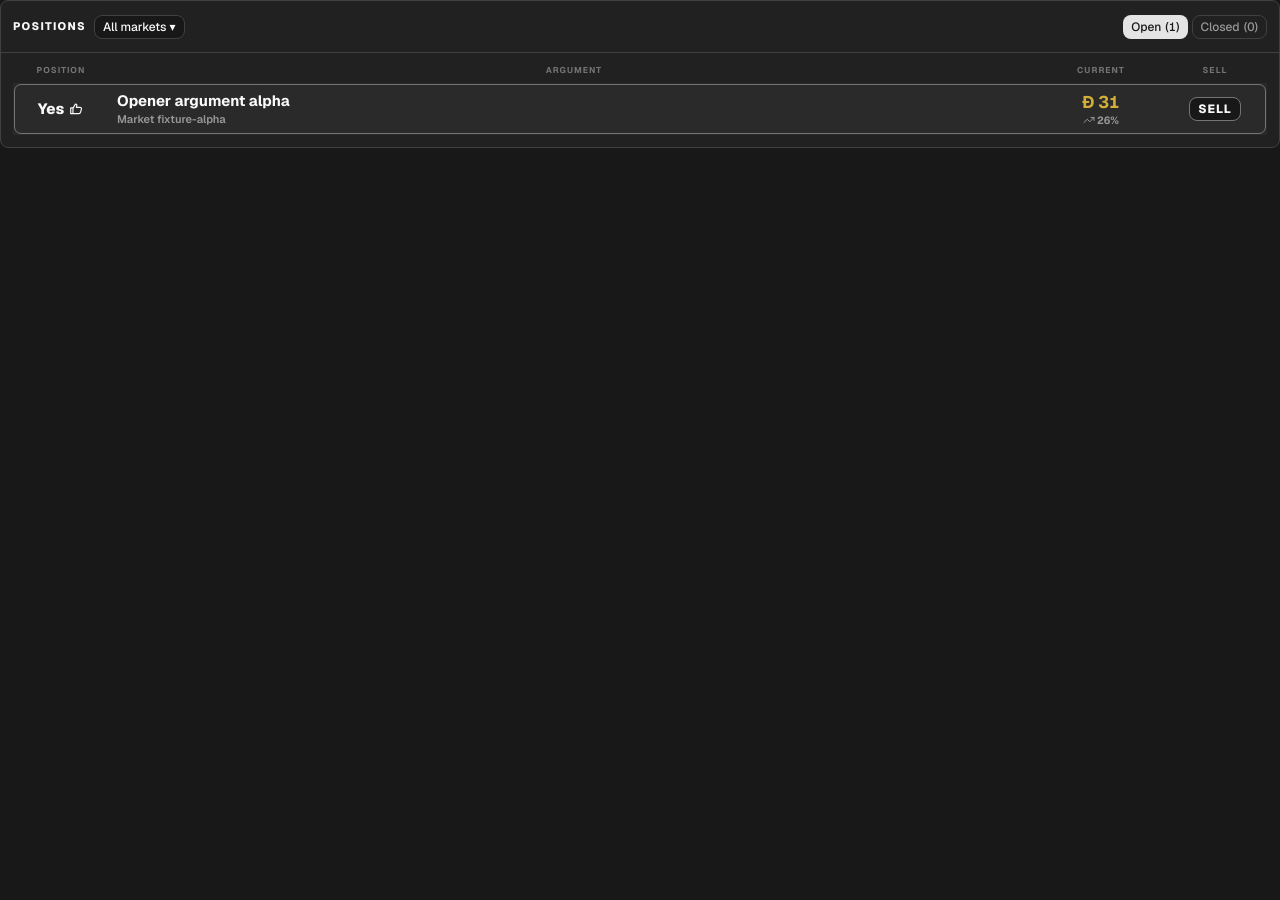
Test: MOBILE-2e — the phone sell, through its host › phone-host::a-pointerdown-INSIDE-the-sheet-does-not-cancel-the-arm
Click the button "Sell" at {"x": 1215, "y": 109}, box [1189, 97, 1241, 121]
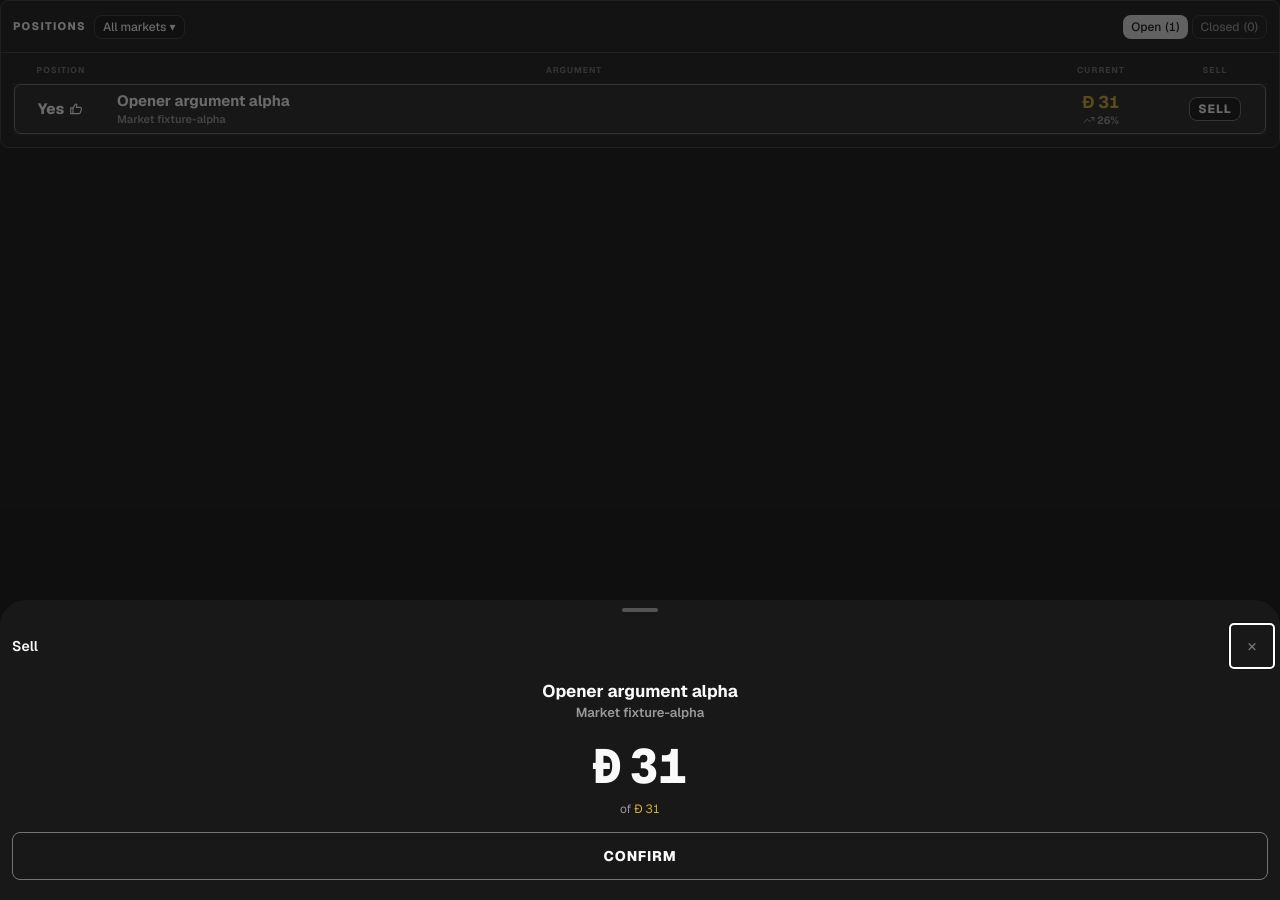
Press the mouse on the button "Confirm" at {"x": 640, "y": 856}, box [12, 832, 1268, 880]
Now the element with test id "phone-sheet-body" is shown, box [0, 676, 1279, 899]
Press the mouse on the element that starts with "Positions" at {"x": 640, "y": 450}, box [0, 0, 1279, 899]
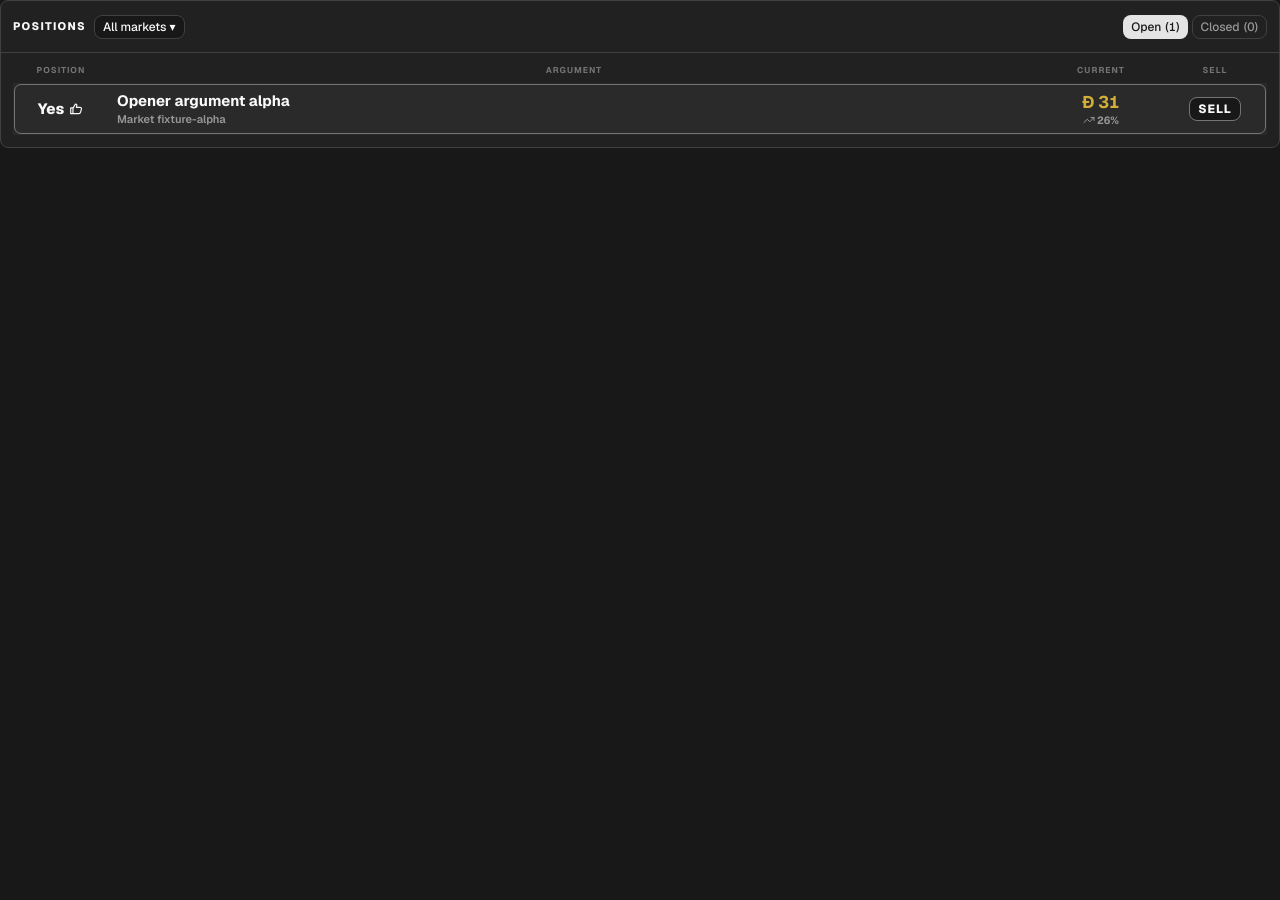
Now the element with test id "phone-sheet-body" is gone
